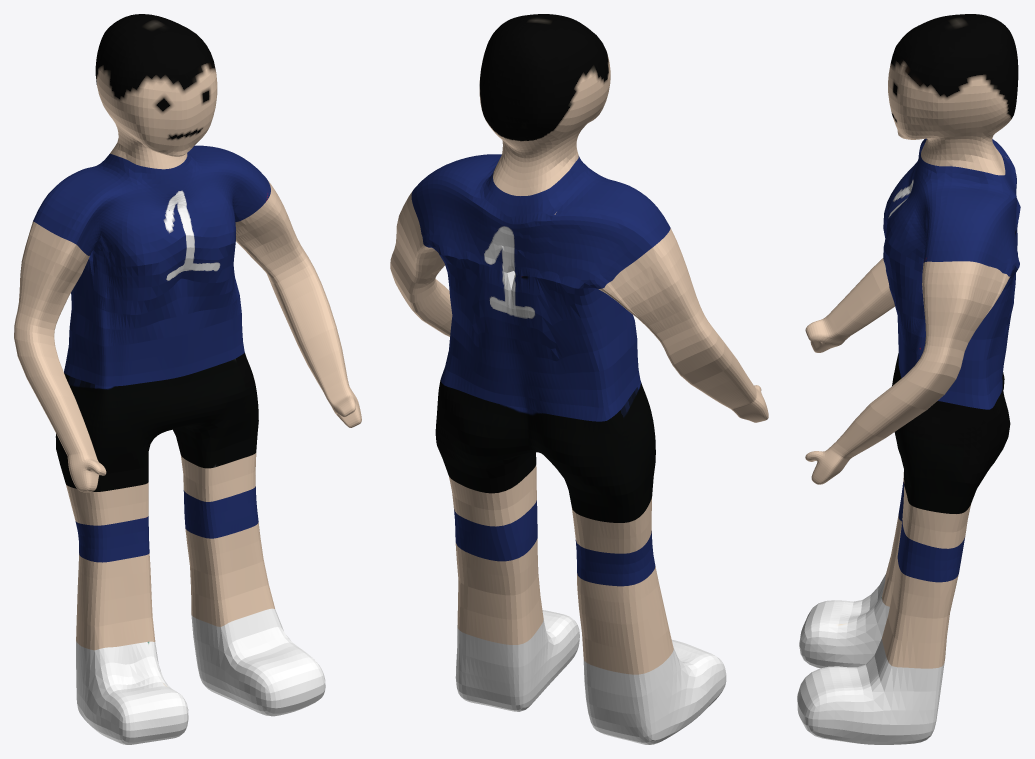
The model's file is JugadoraJA.obj.
3 views of the same model, side by side, from view 1: azimuth 30°, elevation 25°; view 2: azimuth 150°, elevation 25°; view 3: azimuth 270°, elevation 25° (orthographic). The views are drawn at different scales.
Parts seen in each view (by area): view 1: JugadoraJA; view 2: JugadoraJA; view 3: JugadoraJA.
Part boxes in pixels (x1,y1,x2,y2): JugadoraJA: (14, 14, 361, 744); JugadoraJA: (390, 14, 768, 744); JugadoraJA: (797, 14, 1020, 744).
Bounding box in the file's own units: 0.8346 × 1.75 × 0.5202.
1 material, 1 textured.
